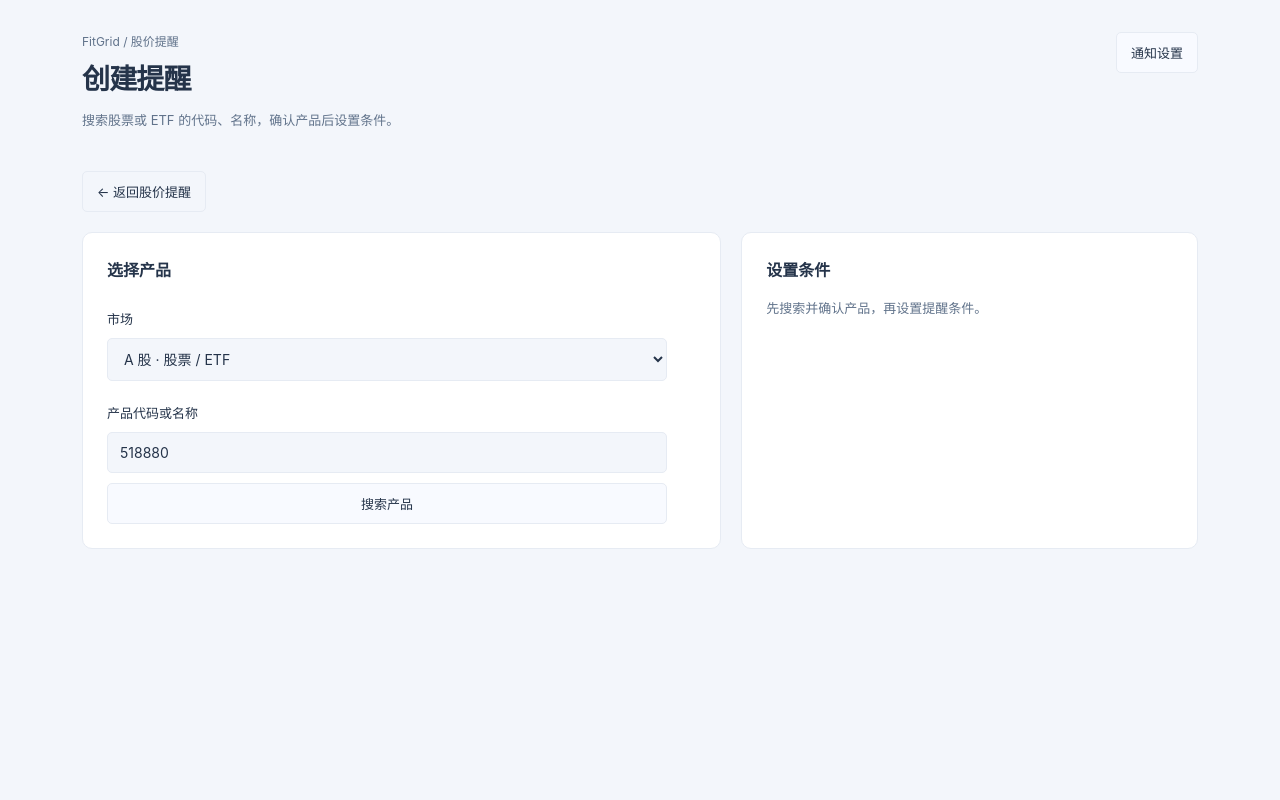
it: requires a fresh instrument confirmation when the new-rule code changes
Click the button "搜索产品": (387, 504) [107,483,667,524]
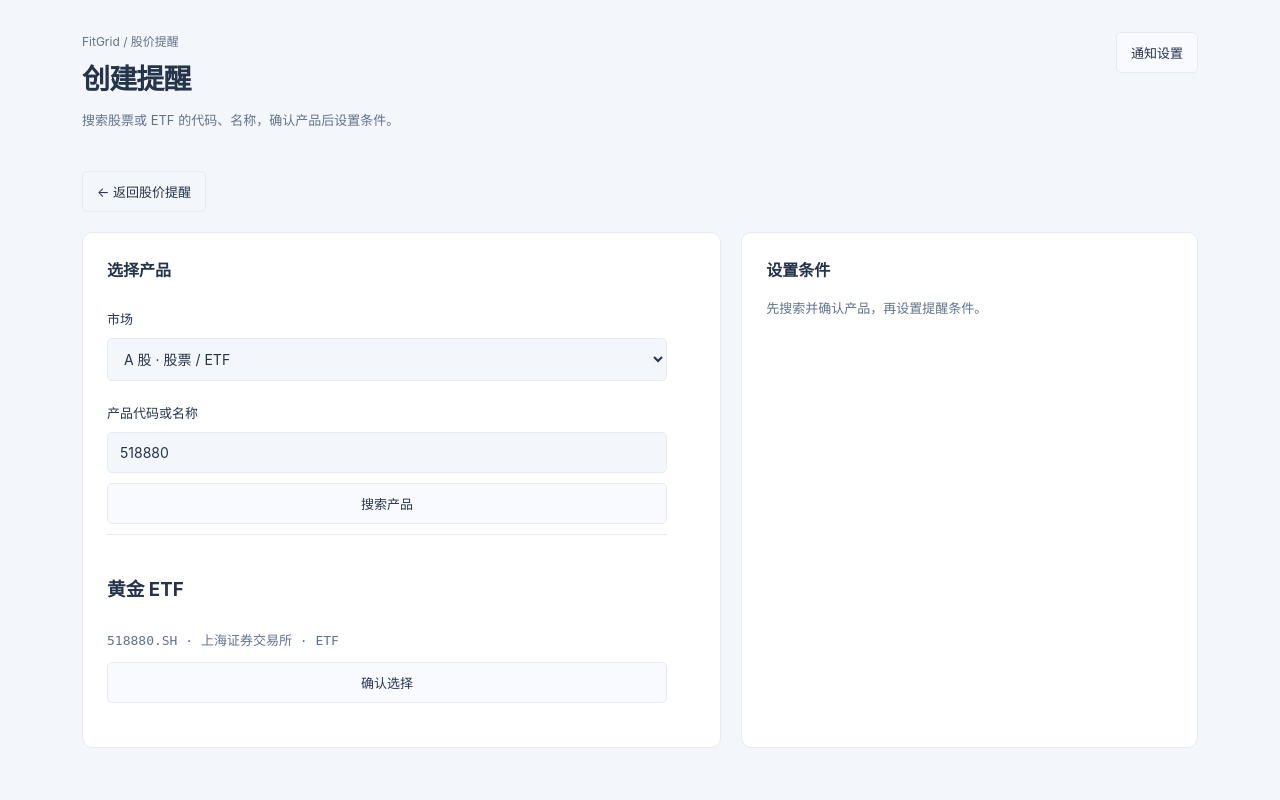
Click the button "确认选择": (387, 682) [107,662,667,703]
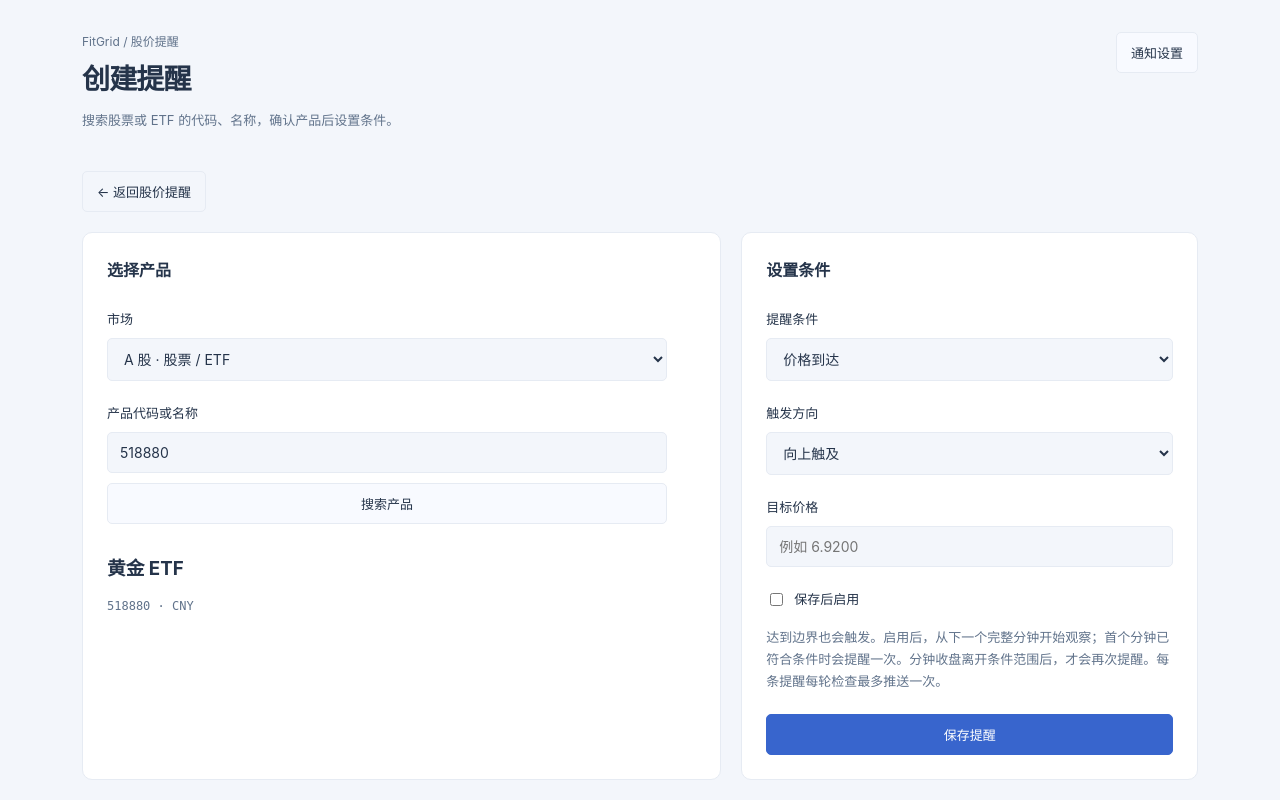
Now the heading "黄金 ETF" is shown, box [107,557,184,580]
In the field labelled "产品代码或名称": (387, 453) [107,432,667,473], type "1"
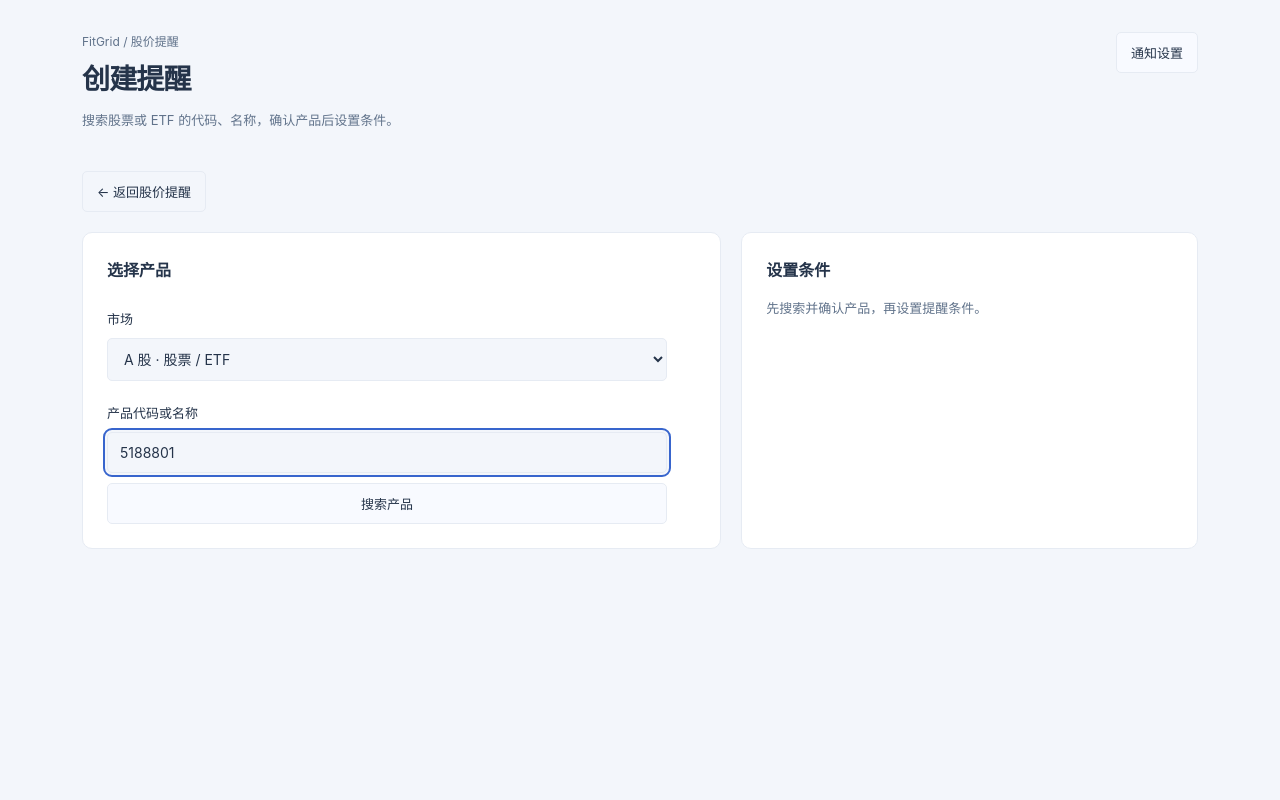
Now the button "保存提醒" is gone
